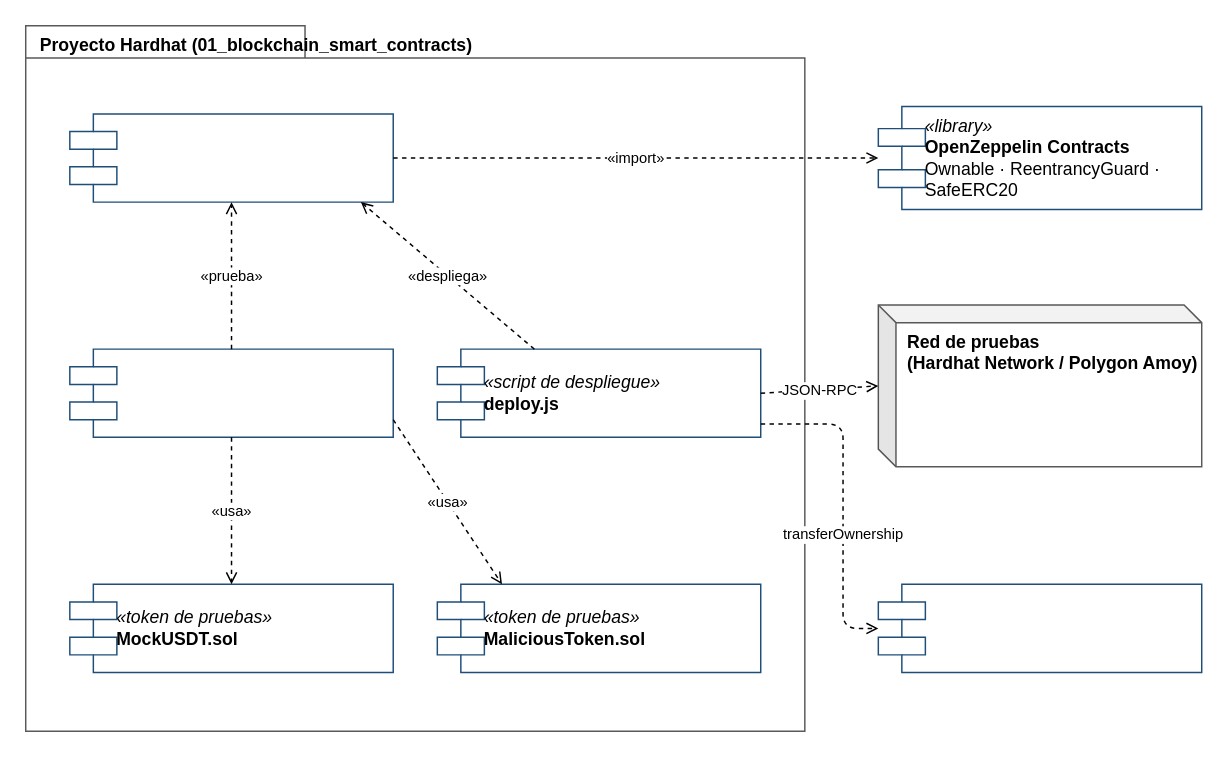
The diagram is 1227 pixels wide and 757 high, and some of its shapes have lost their labels. Here are the shapes that lost their labels. From the top down, the box of each, then its label:
(68, 112, 393, 202): «contract» BoAPayments.sol
(68, 348, 393, 437): «pruebas Mocha / Chai» BoAPayments.test.js
(877, 583, 1202, 673): «propietario» Billetera fría
